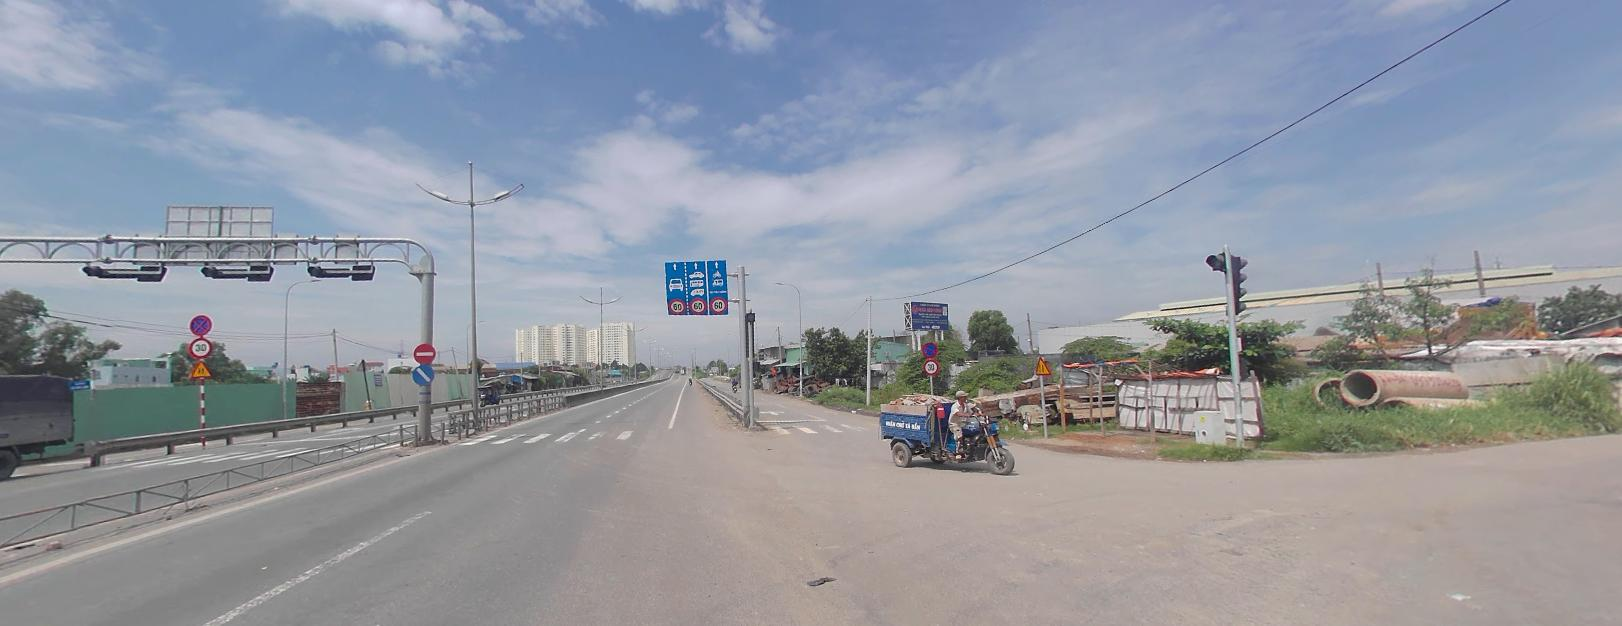Cam dung va do: (188, 313, 212, 333), (922, 340, 937, 357)
Cam nguoc chieu: (413, 341, 436, 361)
Gioi han toc do: (188, 335, 212, 357), (709, 295, 726, 312), (689, 296, 705, 312), (922, 357, 938, 373), (668, 297, 685, 312)
Hieu lenh: (411, 363, 434, 384)
Nguy hiem: (188, 359, 212, 376), (1034, 355, 1050, 374)
